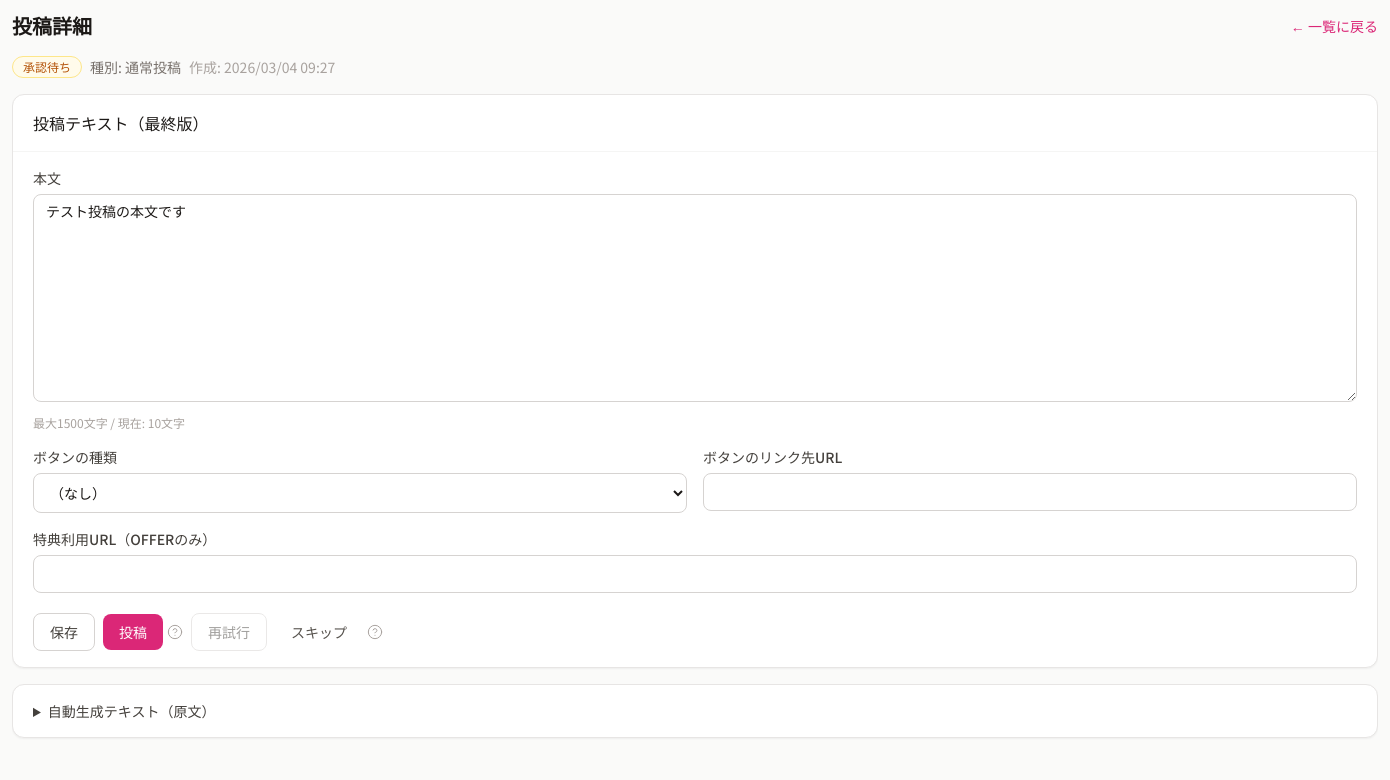
Test case: PostDetailPage › shows validation error for invalid CTA URL
The width and height of the screenshot is (1390, 780).
Expected: the text box showing "テスト投稿の本文です" is shown, [33,194,1357,402]
Type "not-a-url" into the field labelled "特典利用URL（OFFERのみ）" at point(695, 574), box [33,555,1357,593]
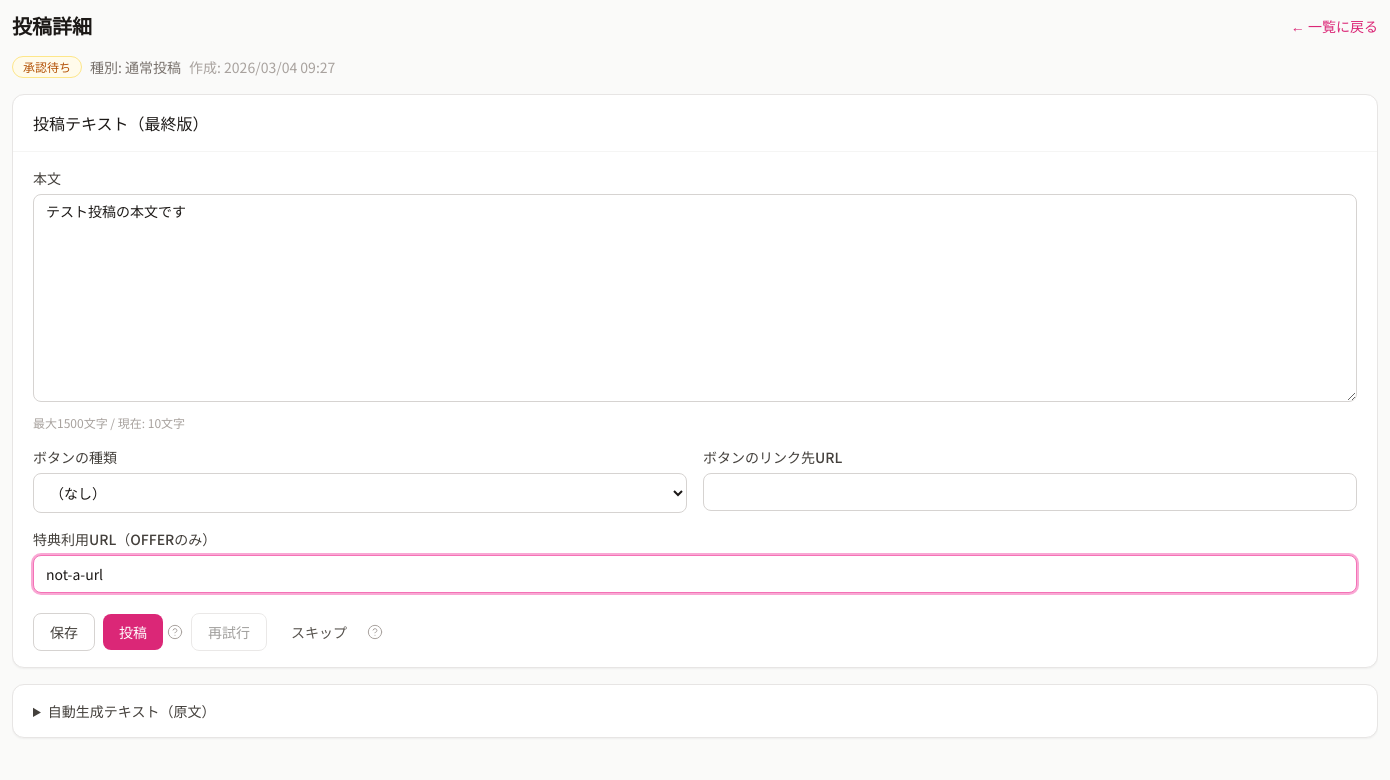
Click the button "保存" at point(64, 632), box [33,613,95,651]
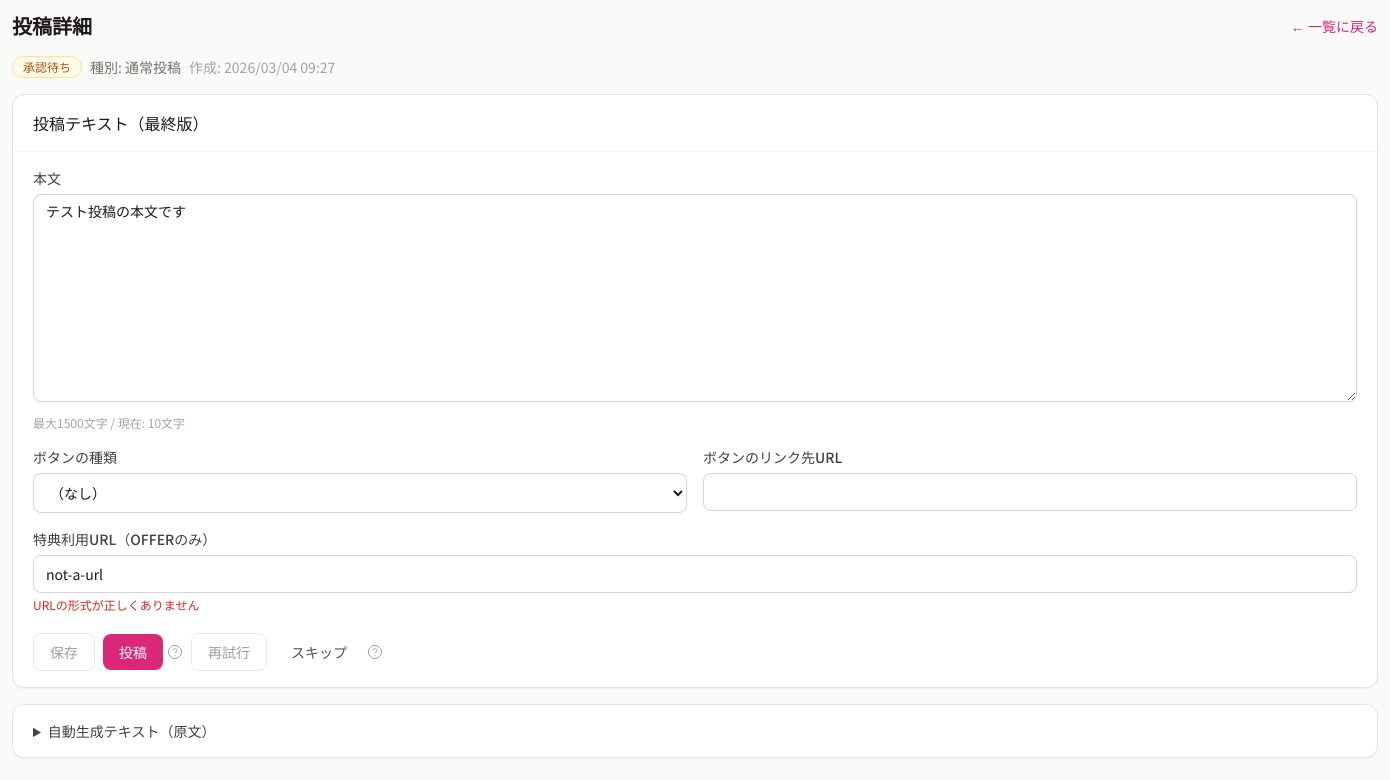
Now the text "URLの形式が正しくありません" is shown, box [33,596,199,613]
